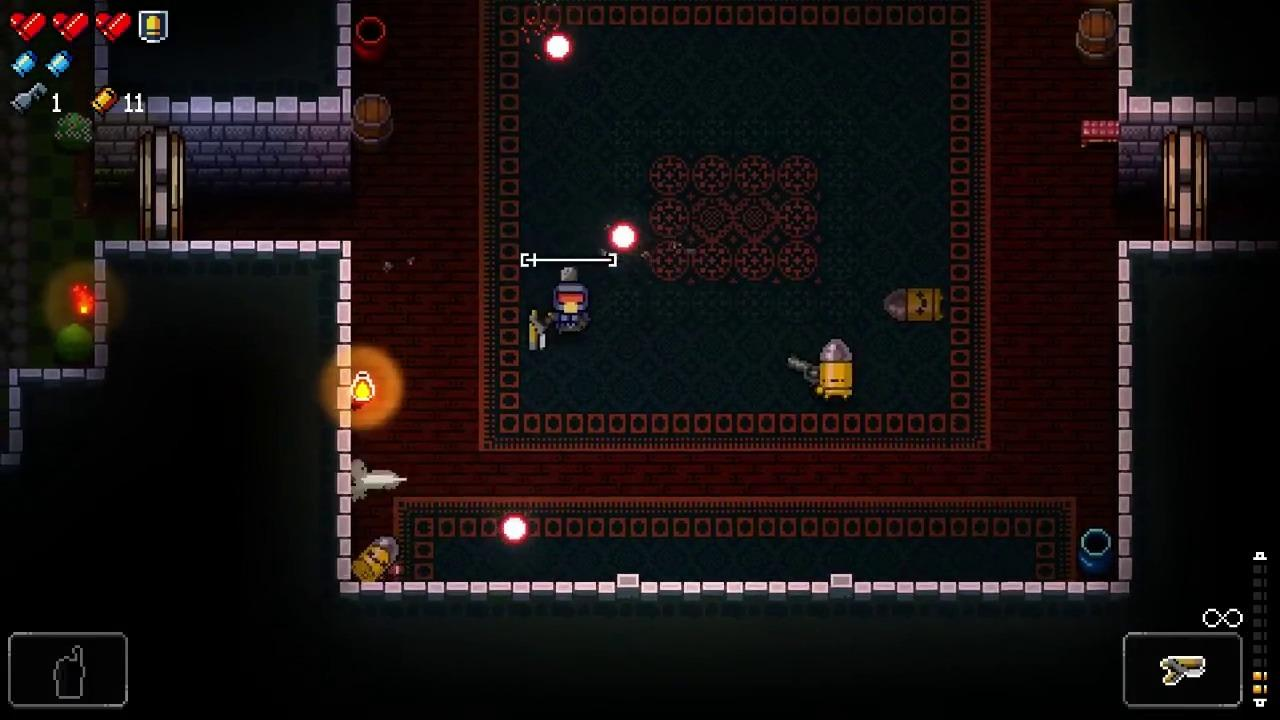bullet: (544, 31, 573, 61), (501, 513, 529, 544), (610, 221, 638, 250)
bullet_kin: (819, 339, 852, 401)
dead_bullet_kin: (351, 535, 400, 581), (884, 287, 943, 322)
locked_door: (1162, 127, 1209, 242), (140, 130, 183, 242)
player: (553, 283, 589, 334)
